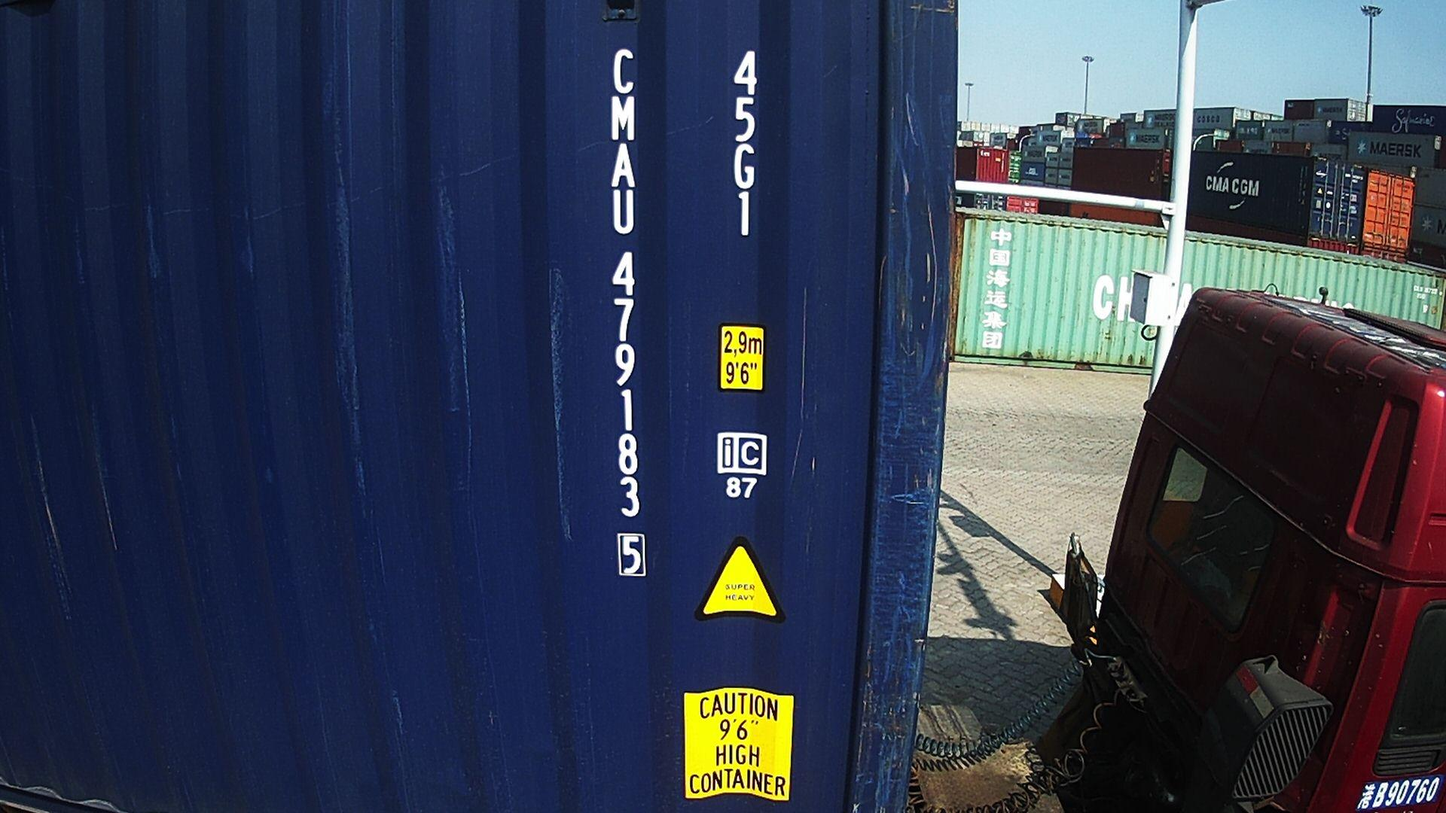container-numbers: (601, 44, 647, 582), (725, 47, 765, 242)
